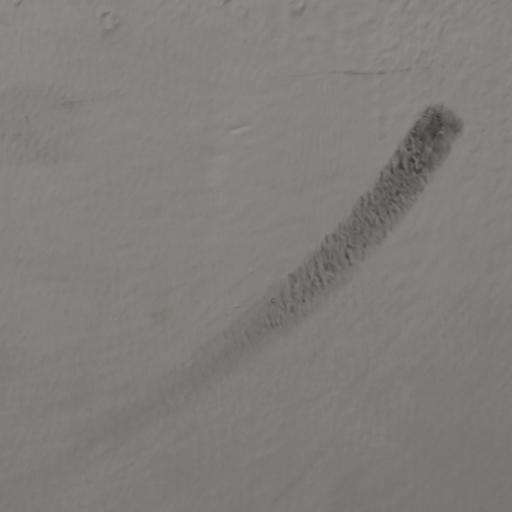stain: (149, 65, 469, 435)
